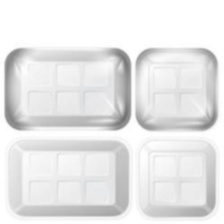foam_box: (0, 132, 134, 223), (0, 45, 134, 133), (134, 136, 221, 224), (134, 46, 220, 133)
